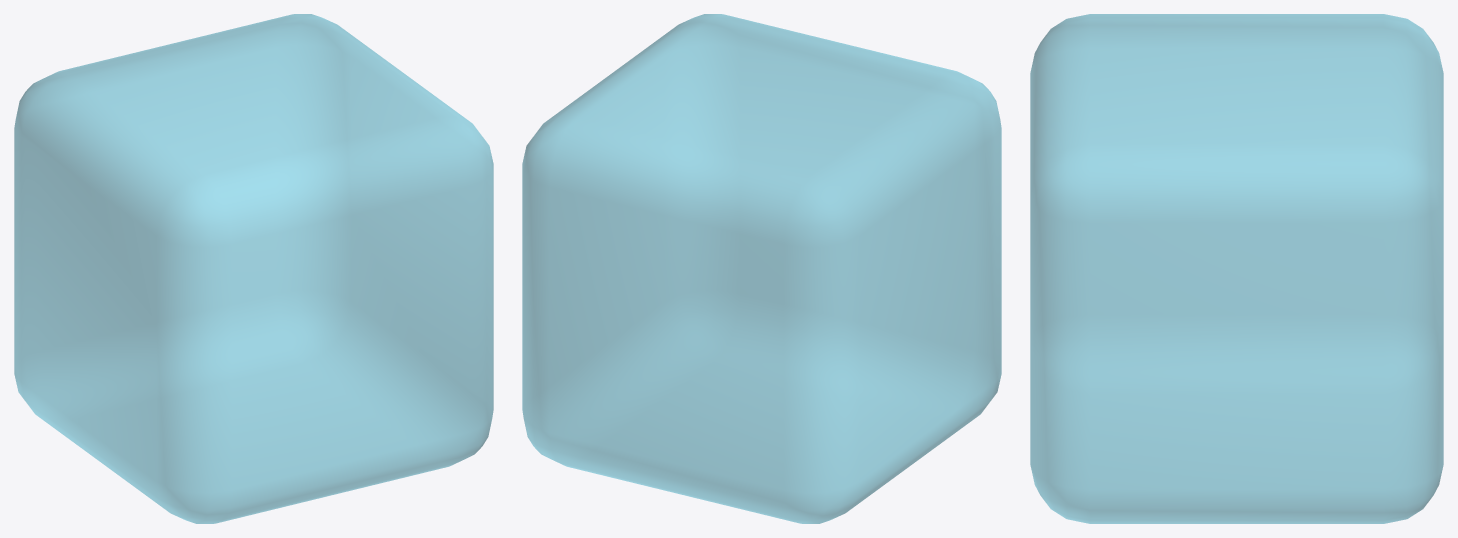
Rendered from Env_IceCube_Decor.glb.
3 renders of one model, left to right at view 1: azimuth 30°, elevation 25°; view 2: azimuth 150°, elevation 25°; view 3: azimuth 270°, elevation 25°, orthographic. The views are drawn at different scales.
Visible parts, largest first — view 1: Env_IceCube_Shell; view 2: Env_IceCube_Shell; view 3: Env_IceCube_Shell.
Part boxes in pixels (x1,y1,x2,y2): Env_IceCube_Shell: (14, 14, 493, 523); Env_IceCube_Shell: (522, 14, 1001, 523); Env_IceCube_Shell: (1030, 14, 1443, 523).
Bounding box in the file's own units: 0.4 × 0.4 × 0.4.
